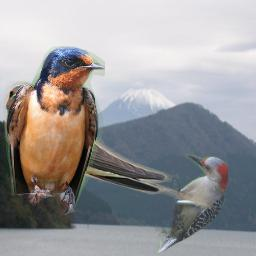Swallow: (3, 81, 216, 209), (6, 46, 105, 215)
Woodpecker: (155, 154, 228, 255)
